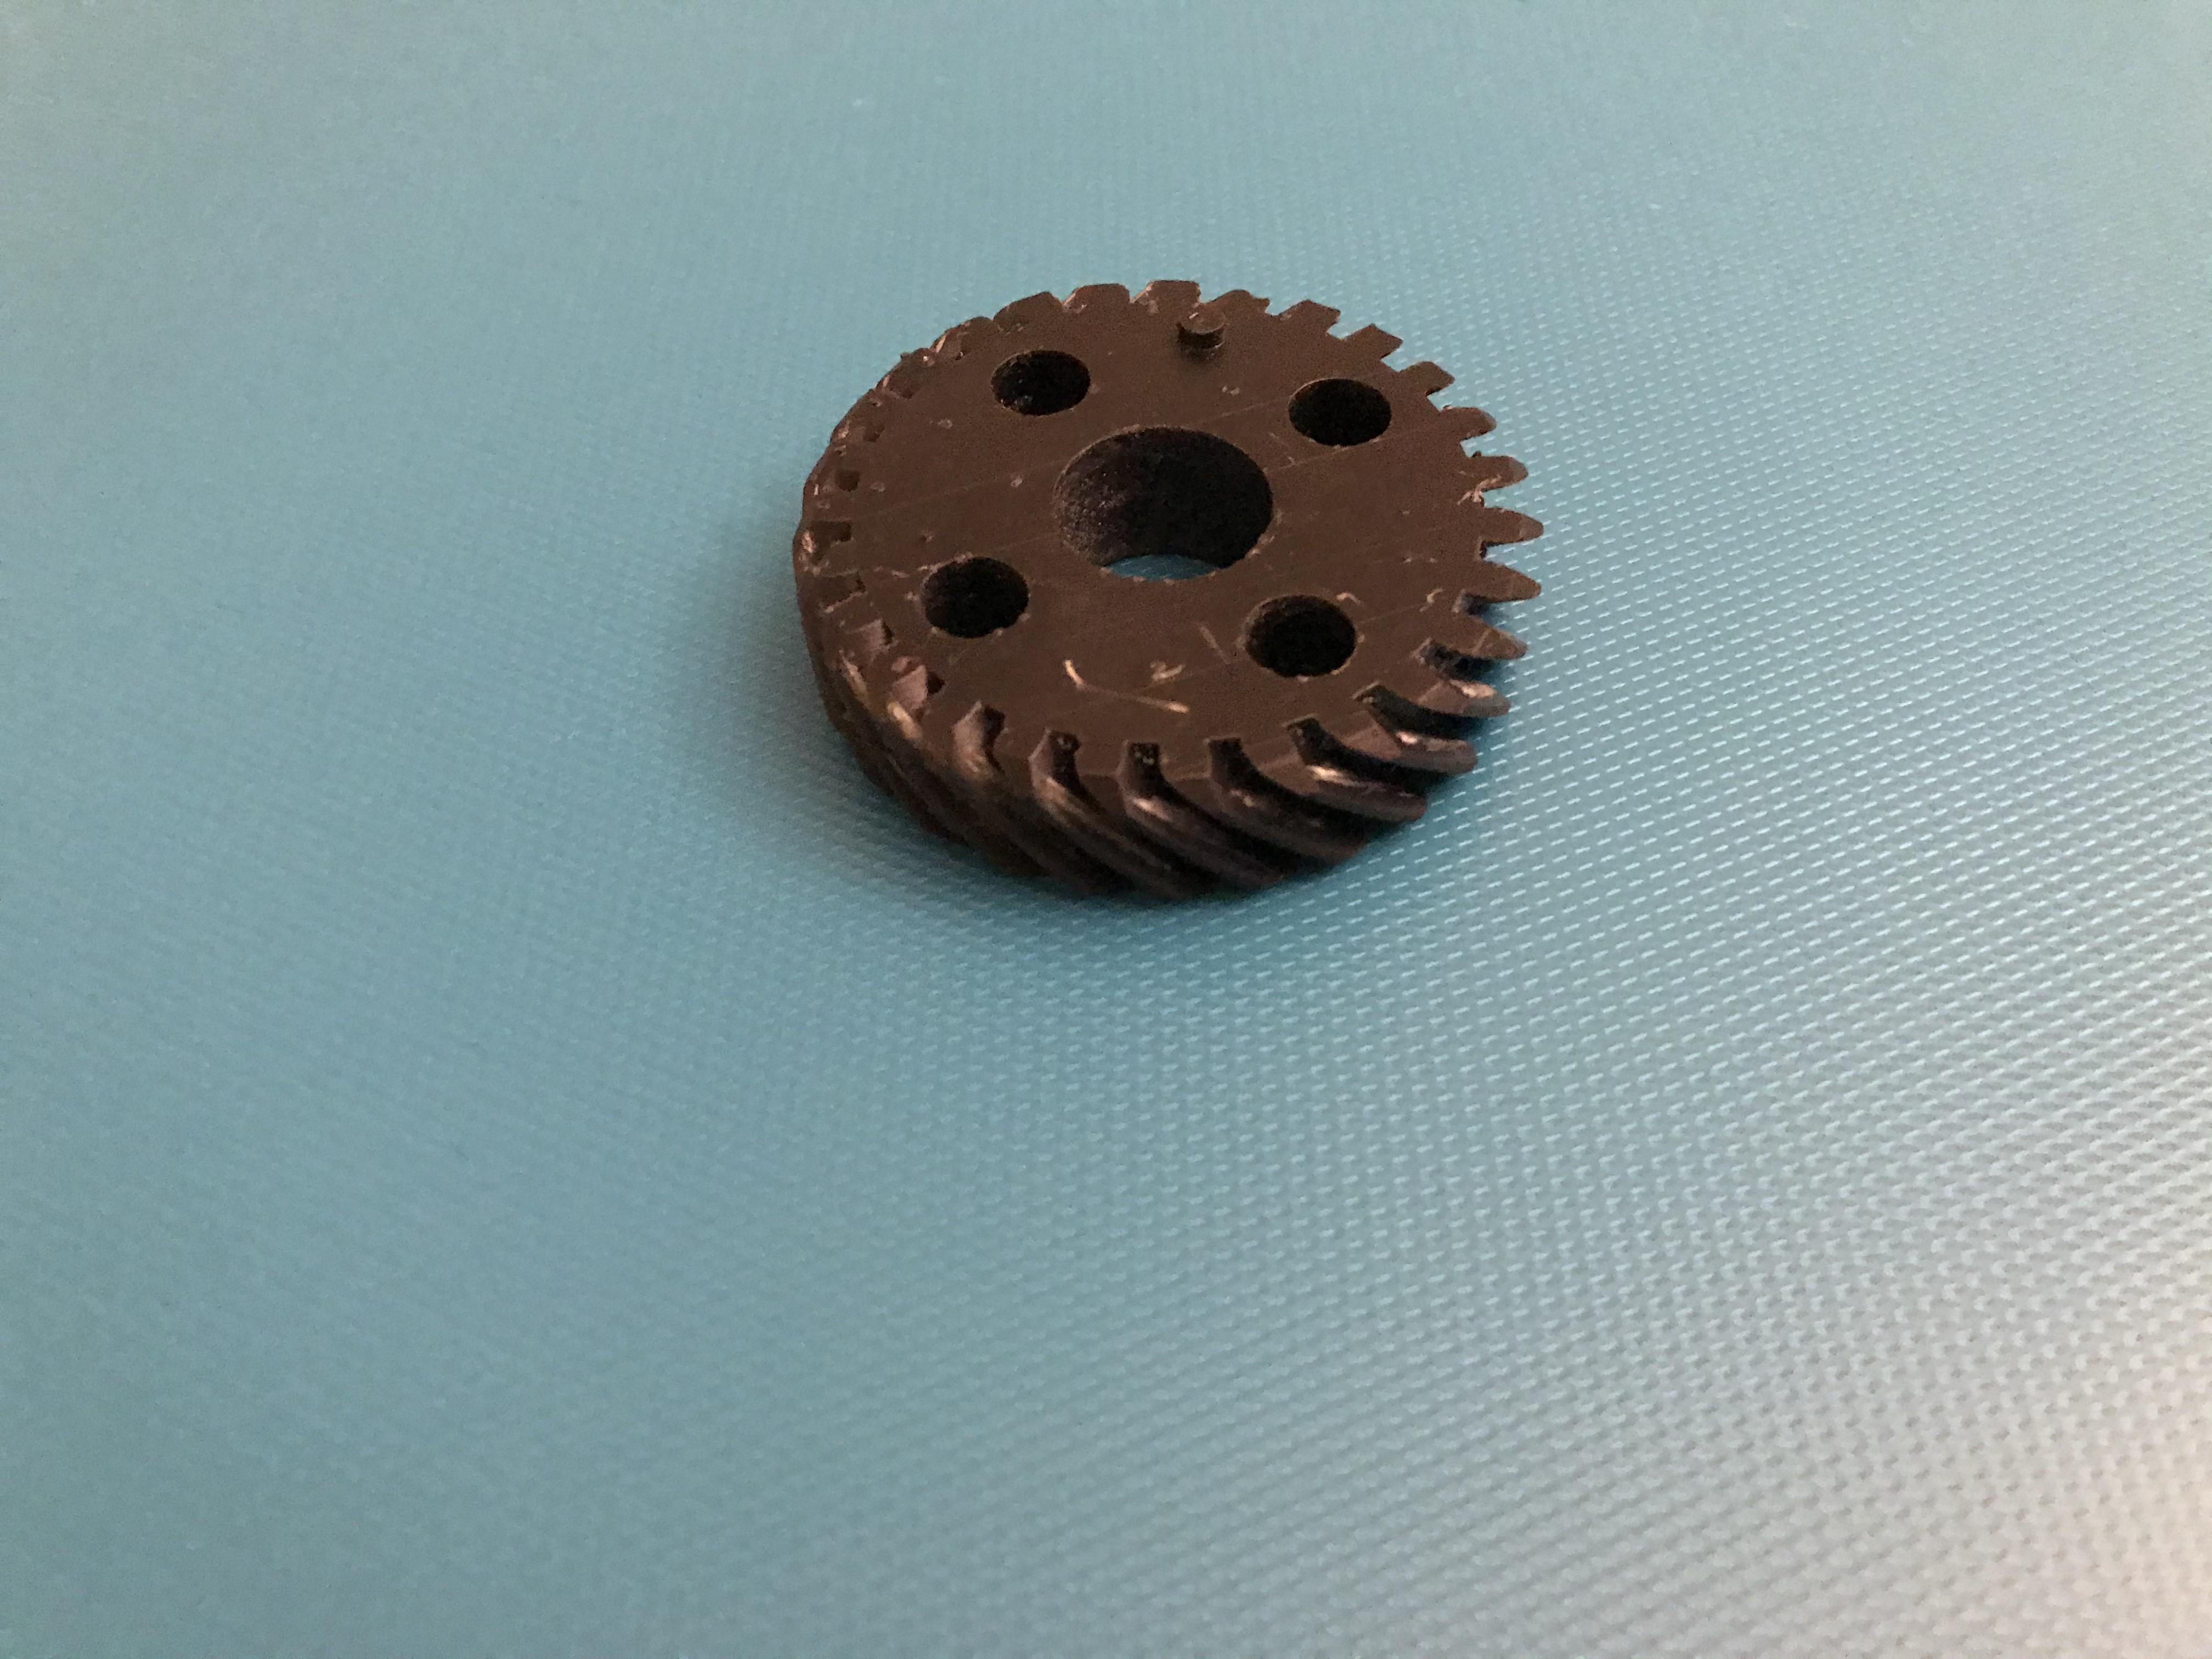Wheel: (791, 274, 1533, 927)
